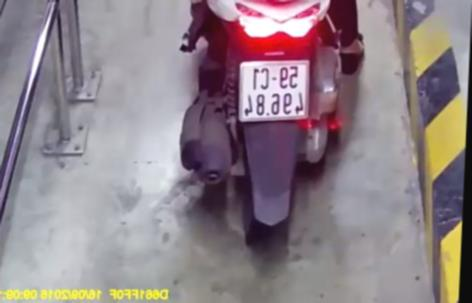License_Plate: (228, 54, 317, 125)
